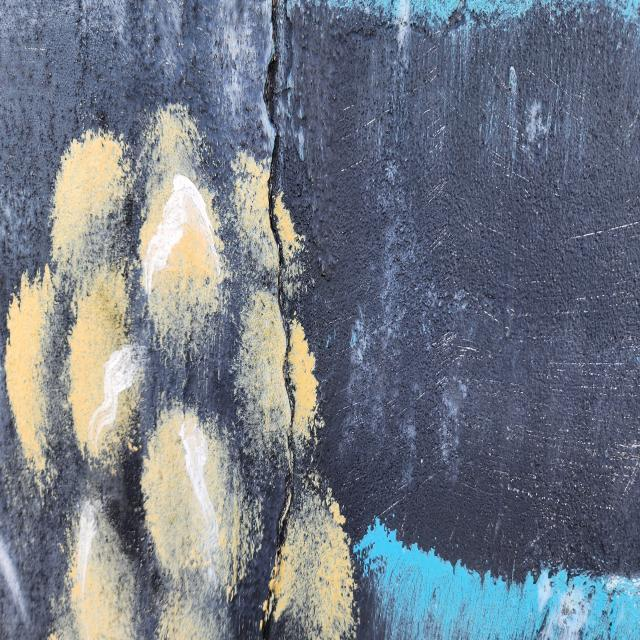SurfaceCrack: (198, 1, 428, 639)
